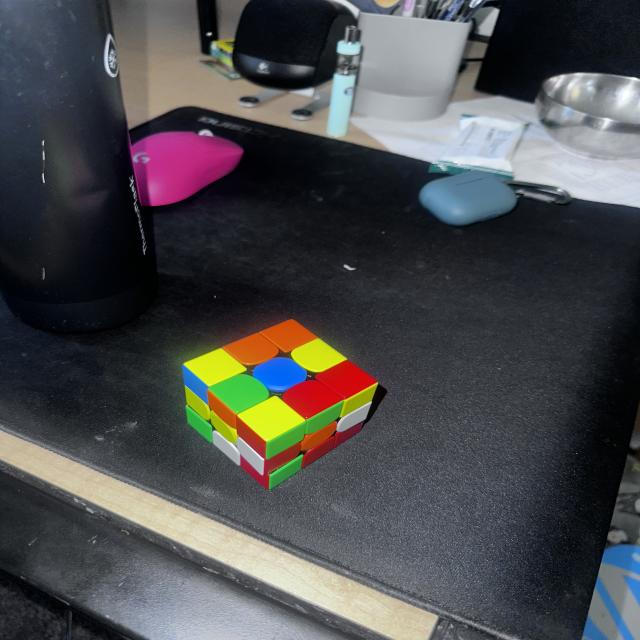sticker: (235, 396, 305, 463), (207, 374, 269, 424), (281, 379, 344, 425), (314, 359, 377, 405), (184, 348, 246, 394), (238, 436, 302, 478), (251, 357, 309, 395), (260, 318, 318, 354), (290, 338, 347, 374), (223, 332, 279, 367), (336, 380, 378, 426), (300, 434, 339, 470), (267, 454, 303, 489), (207, 390, 238, 430), (300, 420, 337, 453), (185, 404, 213, 444), (212, 430, 242, 467), (210, 408, 238, 444), (183, 367, 210, 404), (184, 385, 210, 421), (333, 420, 363, 449)
